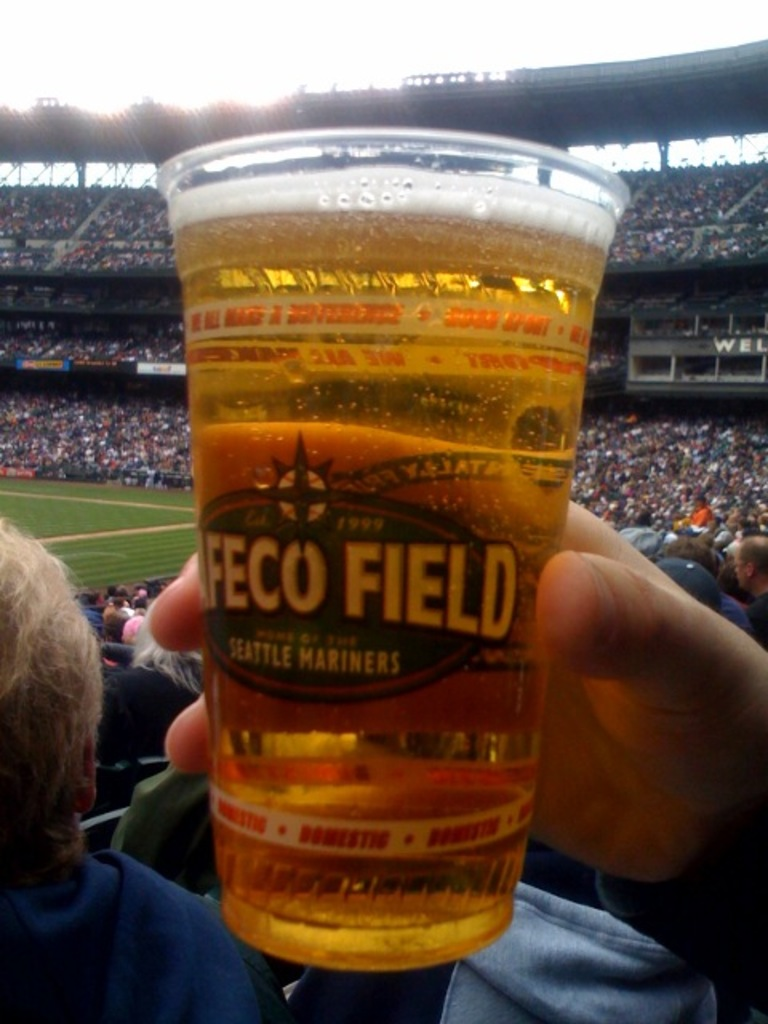Beer: (159, 172, 624, 969)
